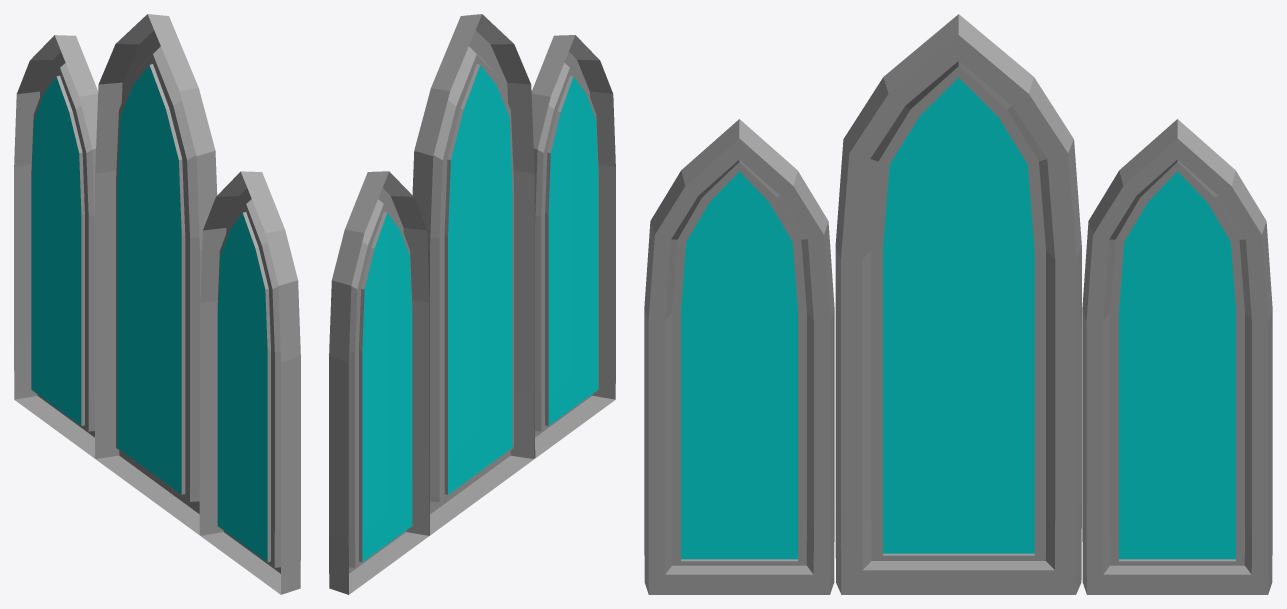
Rendered from Mesh_Decor_Window_b01.fbx.
3 views of the same model, side by side, from view 1: azimuth 30°, elevation 25°; view 2: azimuth 150°, elevation 25°; view 3: azimuth 270°, elevation 25° (orthographic). The views are drawn at different scales.
Parts seen in each view (by area): view 1: Wall_Decor_Window_b01; view 2: Wall_Decor_Window_b01; view 3: Wall_Decor_Window_b01.
Part boxes in pixels (bbox=[...]): Wall_Decor_Window_b01: bbox=[14, 14, 300, 594]; Wall_Decor_Window_b01: bbox=[329, 14, 615, 594]; Wall_Decor_Window_b01: bbox=[644, 14, 1272, 594].
Size of the model in its own units: 1.07 by 22.92 by 22.95.
